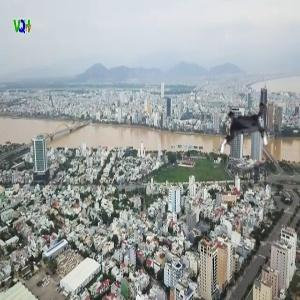drone: (214, 98, 277, 161)
